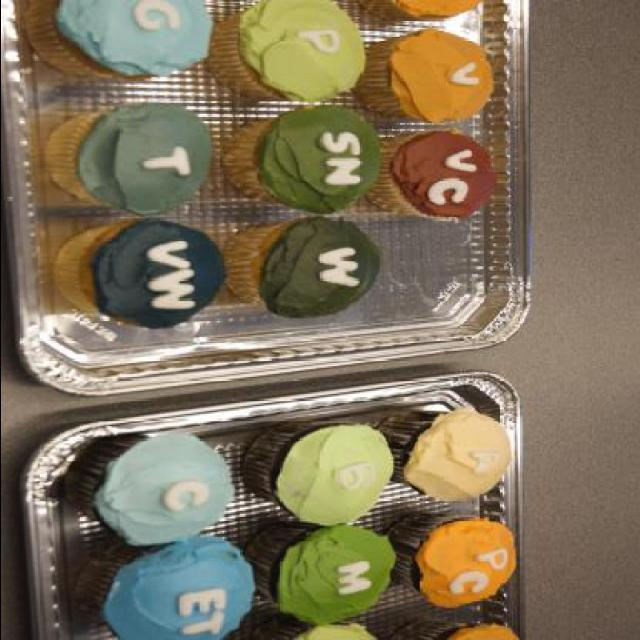Muffin: (23, 0, 498, 332), (59, 403, 523, 640)
